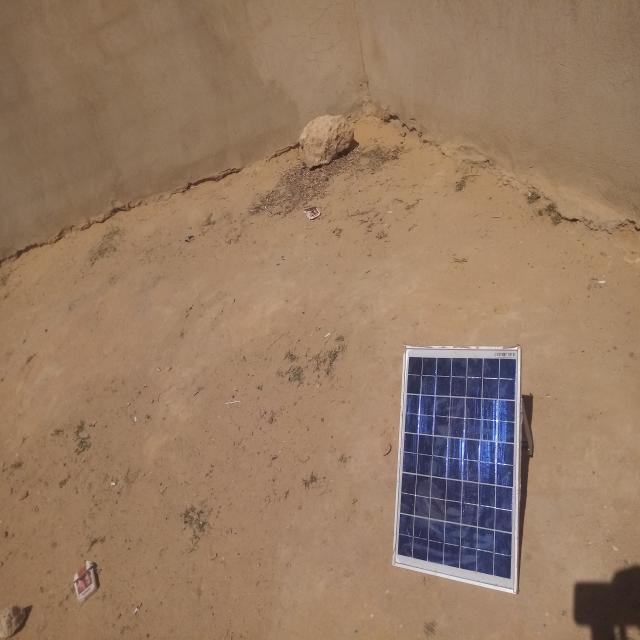faulty: (394, 346, 519, 593)
